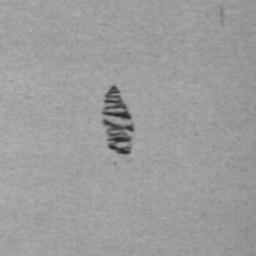Secondary rust skin: (101, 84, 136, 156)
